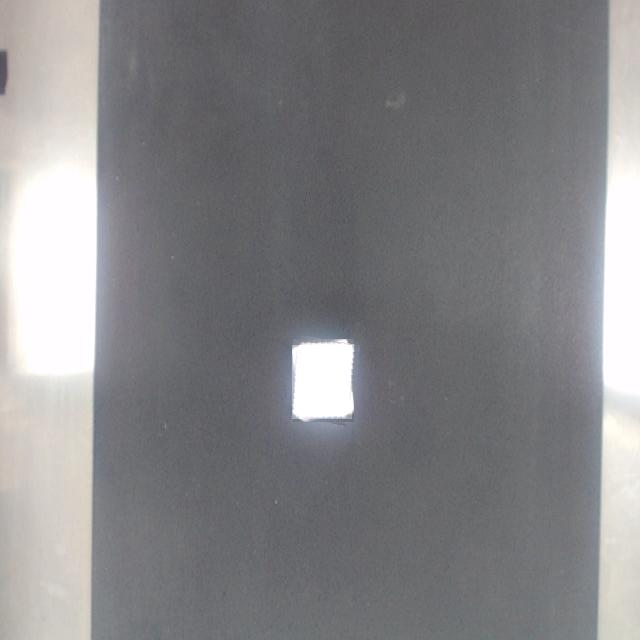Blanco: (293, 345, 352, 419)
